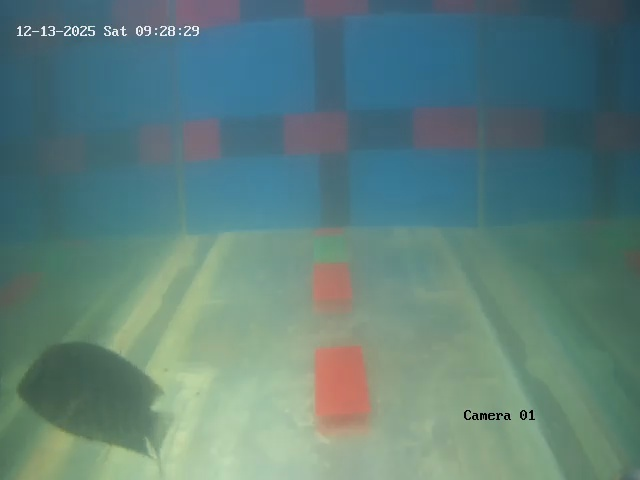fish: (19, 337, 156, 451)
